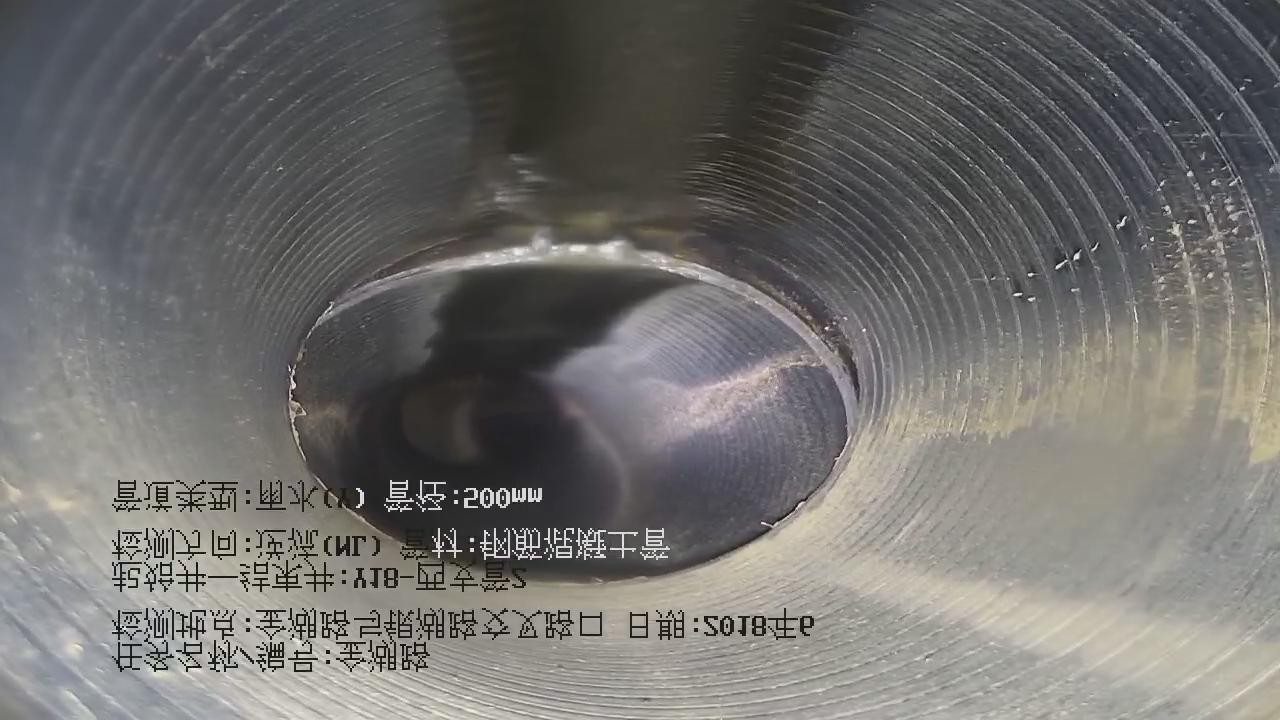CKTJ: (289, 232, 857, 474)
